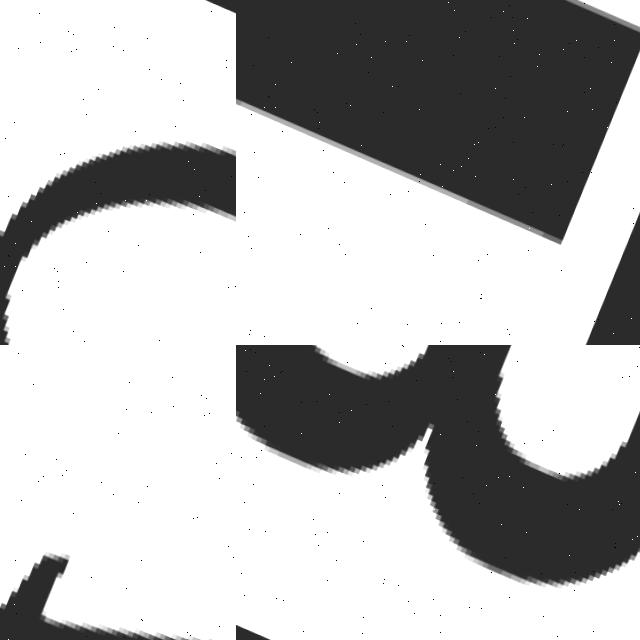1: (0, 404, 236, 640)
3: (236, 345, 640, 633)
D: (0, 0, 236, 345)
R: (236, 0, 640, 345)
